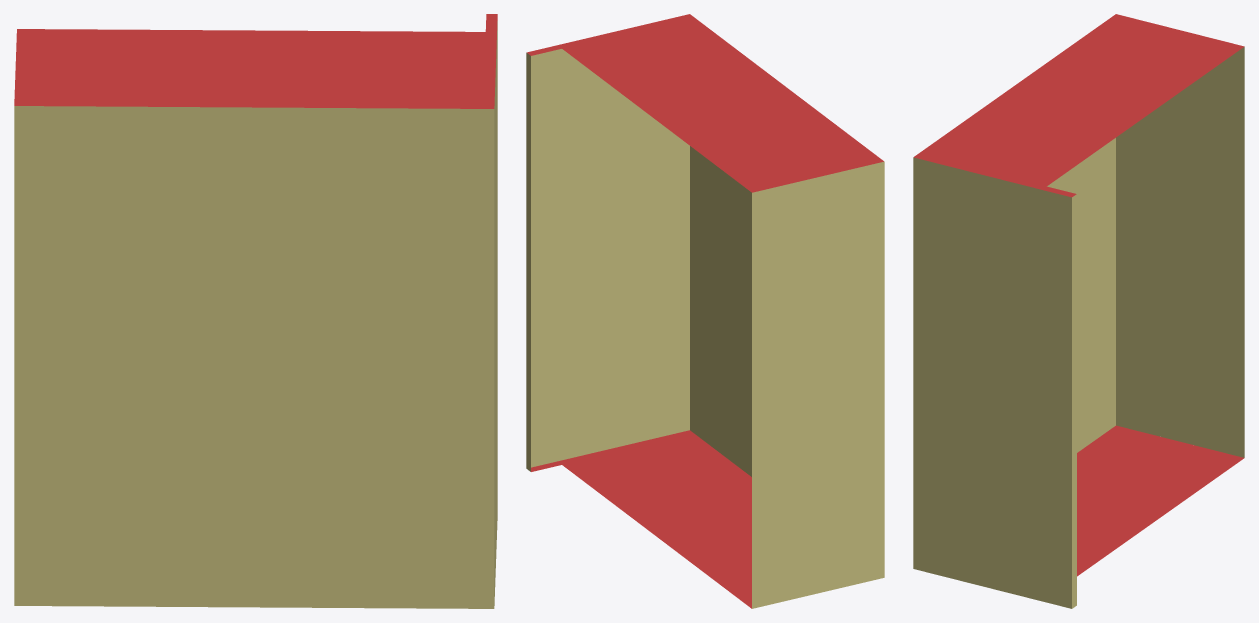
3 views of the same model, side by side, from view 1: azimuth 30°, elevation 25°; view 2: azimuth 150°, elevation 25°; view 3: azimuth 270°, elevation 25° (orthographic). The views are drawn at different scales.
Parts seen in each view (by area): view 1: group_4, group_3; view 2: group_4, group_3, group_5; view 3: group_4, group_3, group_5.
Part boxes in pixels (bbox=[...]): group_4: bbox=[14, 21, 497, 608]; group_3: bbox=[14, 14, 497, 108]; group_4: bbox=[526, 49, 884, 608]; group_3: bbox=[527, 14, 883, 192]; group_5: bbox=[531, 430, 751, 608]; group_4: bbox=[913, 47, 1244, 608]; group_3: bbox=[913, 14, 1244, 197]; group_5: bbox=[1077, 425, 1244, 576].
Bounding box in the file's own units: 8.22 × 6.28 × 8.6.
